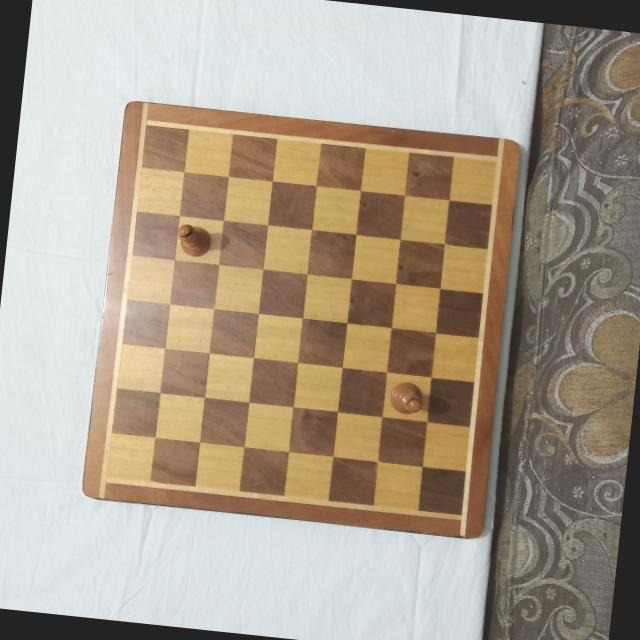white-bishop: (175, 218, 215, 258), (387, 377, 426, 415)
